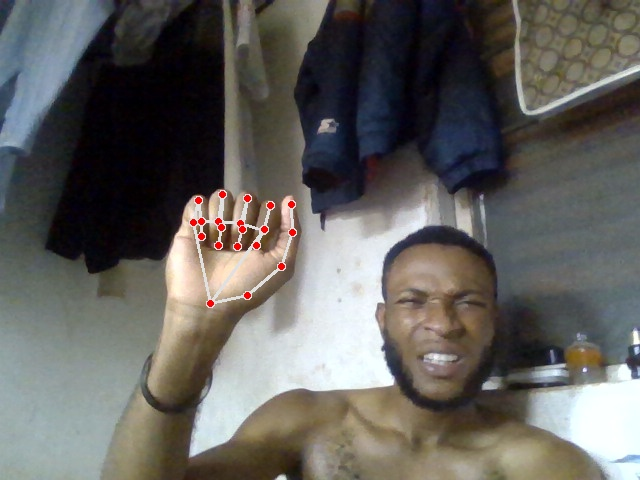number0: (163, 186, 303, 316)
